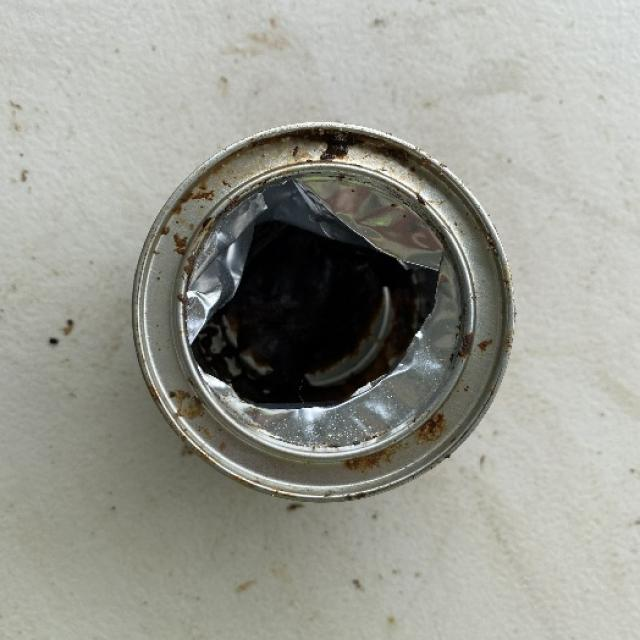metal: (131, 120, 515, 502)
